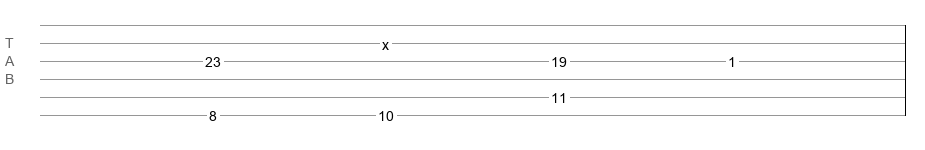1: (728, 54, 736, 64)
10: (378, 108, 394, 118)
11: (551, 90, 567, 100)
19: (551, 54, 567, 64)
23: (205, 54, 221, 64)
8: (209, 108, 217, 118)
x: (382, 37, 389, 45)
